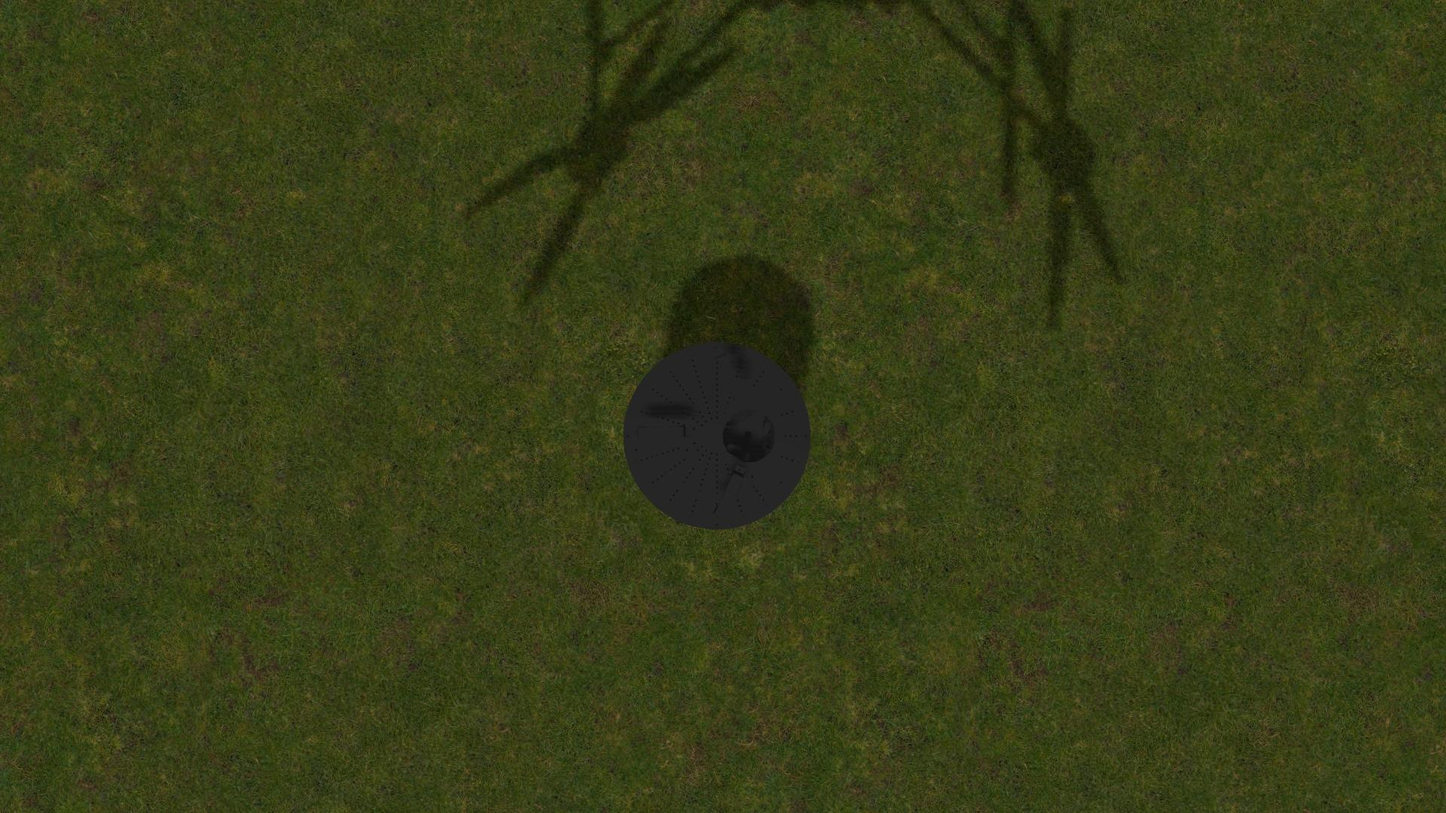alca: (712, 464, 746, 521), (714, 349, 746, 405), (634, 426, 691, 439)
armadilha: (623, 341, 811, 530)
